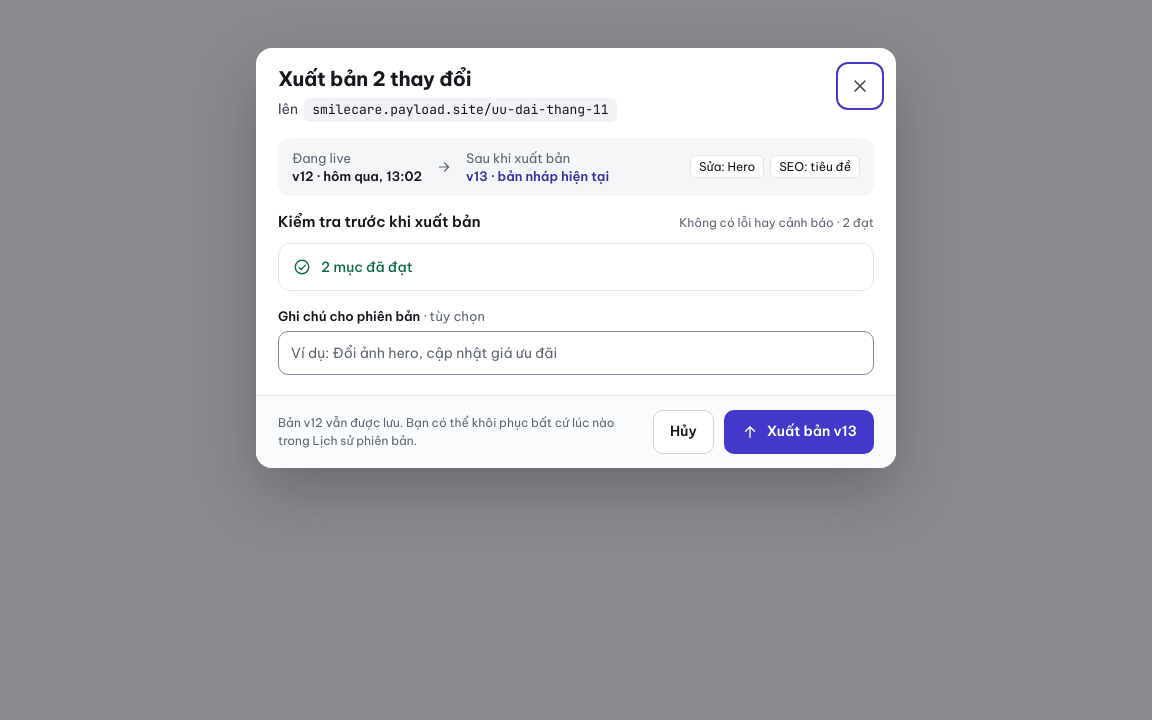
Test: PublishDialog › refreshes the checks from a blocked publish
Expected: the heading "Xuất bản 2 thay đổi" is shown, left=278, top=66, right=472, bottom=91
Click the button "Xuất bản v13" at (799, 432), box left=724, top=410, right=874, bottom=454
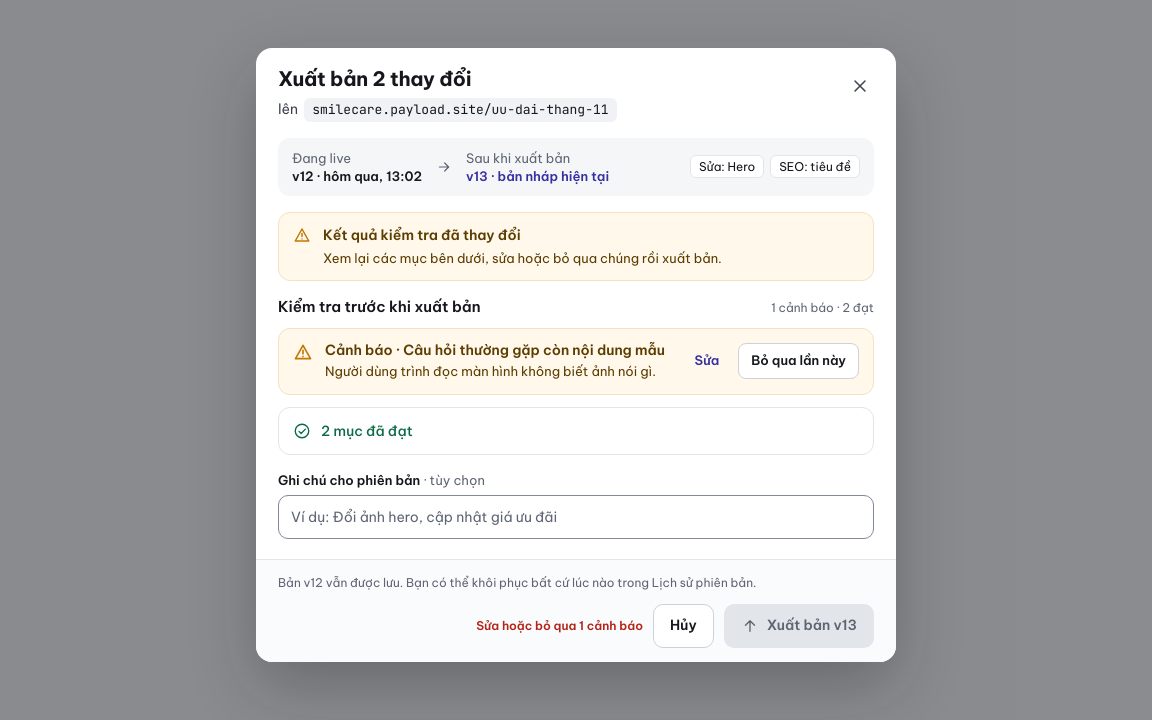
Expected: the text "Kết quả kiểm tra đã thay đổi" is shown, left=323, top=226, right=521, bottom=244
Expected: the text "Cảnh báo · Câu hỏi thường gặp còn nội dung mẫu" is shown, left=325, top=341, right=669, bottom=359
Expected: the button "Xuất bản v13" is disabled, left=724, top=604, right=874, bottom=648
